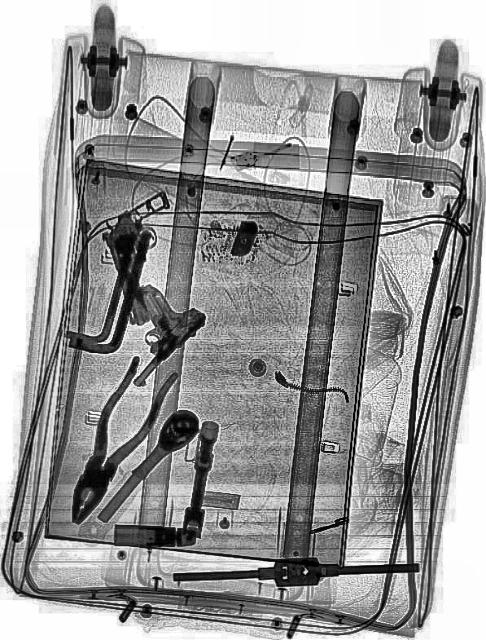Gun: (96, 259, 210, 391), (96, 202, 176, 332)
Pliers: (51, 344, 177, 538)
